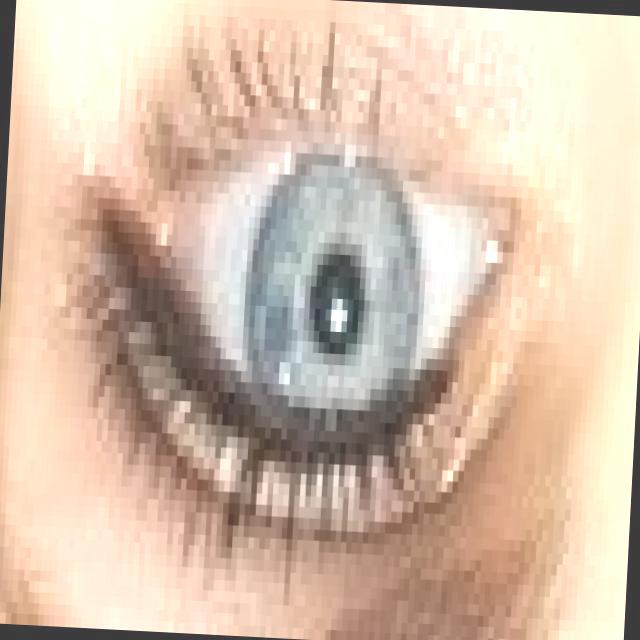Normal: (64, 58, 593, 576)
